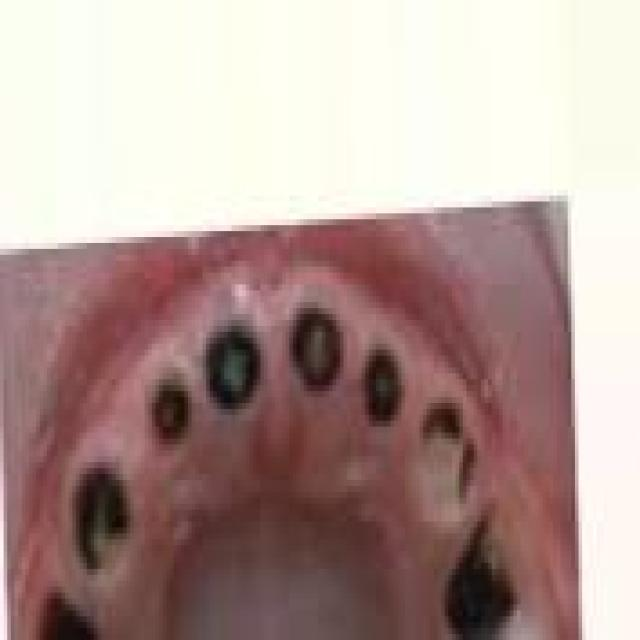caries: (439, 509, 532, 640), (61, 448, 140, 590), (278, 289, 354, 417), (417, 387, 485, 512), (200, 308, 268, 424), (359, 335, 414, 446), (144, 361, 191, 462)
